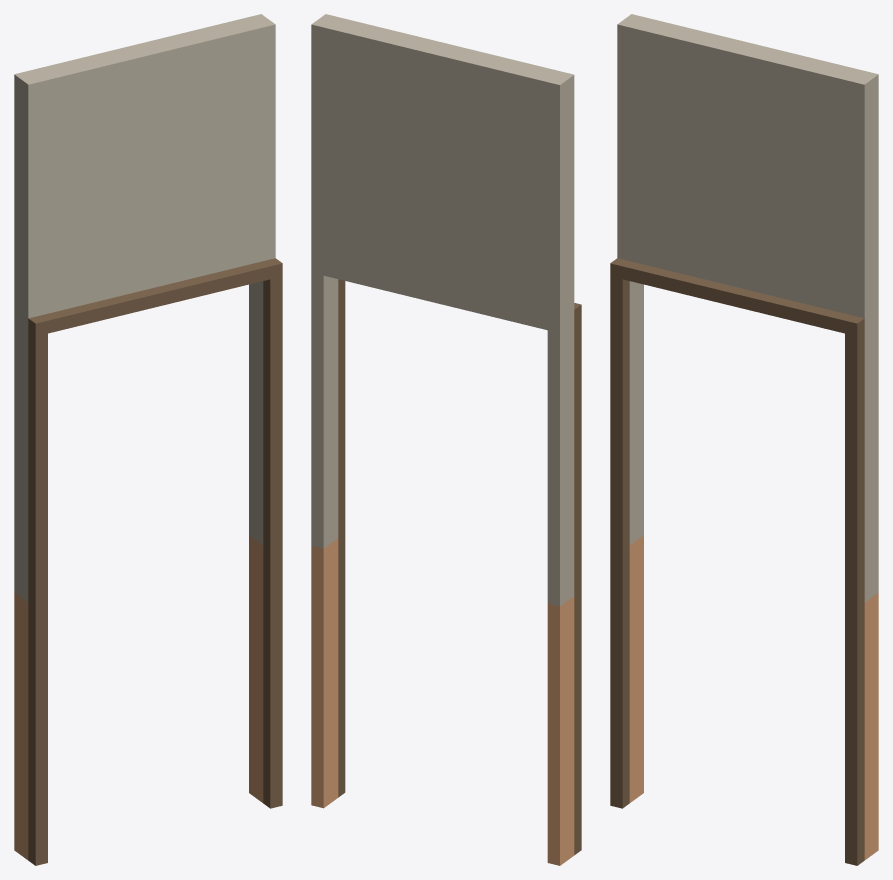
Rendered from Mesh_DoorHole2Colors_03.fbx.
3 views of the same model, side by side, from view 1: azimuth 30°, elevation 25°; view 2: azimuth 150°, elevation 25°; view 3: azimuth 330°, elevation 25° (orthographic).
Parts seen in each view (by area): view 1: Mesh_DoorHole2Colors_03; view 2: Mesh_DoorHole2Colors_03; view 3: Mesh_DoorHole2Colors_03.
Part boxes in pixels (bbox=[...]): Mesh_DoorHole2Colors_03: bbox=[14, 14, 282, 865]; Mesh_DoorHole2Colors_03: bbox=[311, 14, 581, 865]; Mesh_DoorHole2Colors_03: bbox=[610, 14, 878, 865].
Bounding box in the file's own units: 1 × 3 × 0.15.
